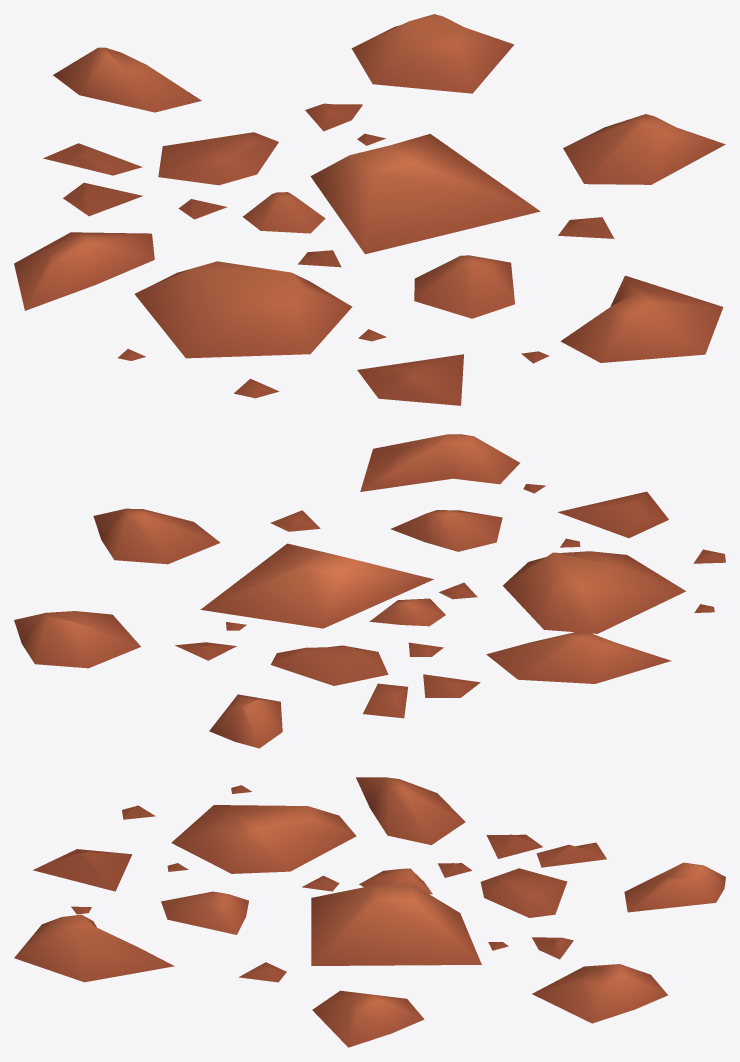
Rendered from Pebbles.002.fbx.
The picture shows the model from 3 angles, top to bottom: view 1: azimuth 30°, elevation 25°; view 2: azimuth 150°, elevation 25°; view 3: azimuth 270°, elevation 25°; orthographic projection. The views are drawn at different scales.
Visible parts, largest first — view 1: Pebbles.002; view 2: Pebbles.002; view 3: Pebbles.002.
Part boxes in pixels (box(x1,y1,x2,y2)): Pebbles.002: box(14, 14, 725, 405); Pebbles.002: box(14, 434, 725, 748); Pebbles.002: box(14, 777, 725, 1047).
Size of the model in its own units: 3.23 by 0.1955 by 3.6.
